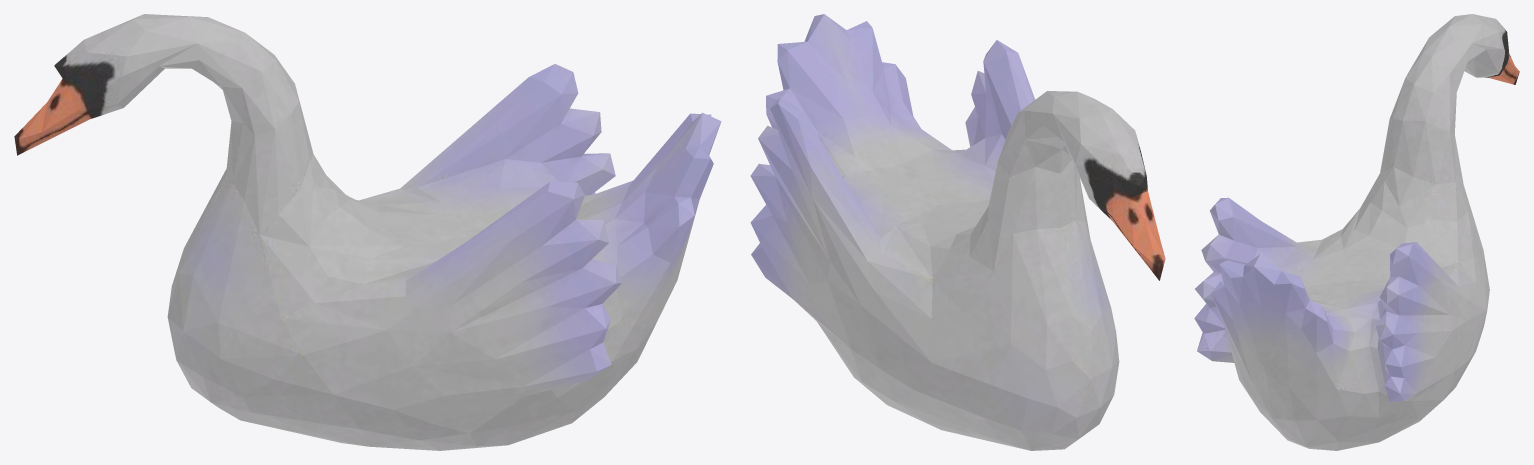
3 renders of one model, left to right at view 1: azimuth 30°, elevation 25°; view 2: azimuth 150°, elevation 25°; view 3: azimuth 270°, elevation 25°, orthographic. The views are drawn at different scales.
Visible parts, largest first — view 1: n1; view 2: n1; view 3: n1.
Part boxes in pixels (box(x1,y1,x2,y2)): n1: box(14, 14, 721, 450); n1: box(750, 14, 1165, 450); n1: box(1194, 14, 1519, 450).
Size of the model in its own units: 0.9 by 0.6362 by 0.5937.
Materials: 1 (1 with a texture image).
